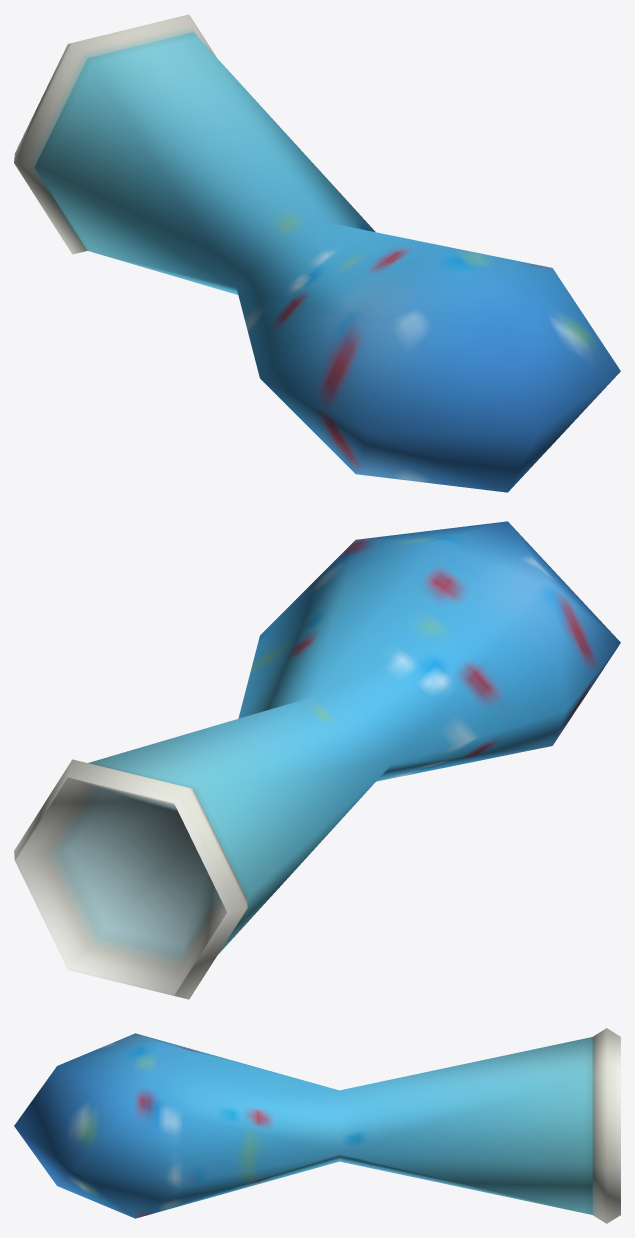
File: jsf_Balloon_12.fbx
The picture shows the model from 3 angles, top to bottom: view 1: azimuth 30°, elevation 25°; view 2: azimuth 150°, elevation 25°; view 3: azimuth 270°, elevation 25°; orthographic projection. The views are drawn at different scales.
Visible parts, largest first — view 1: jsf_Balloon_12; view 2: jsf_Balloon_12; view 3: jsf_Balloon_12.
Part boxes in pixels (left/top/right/bottom): jsf_Balloon_12: left=14, top=14, right=620, bottom=492; jsf_Balloon_12: left=14, top=521, right=620, bottom=999; jsf_Balloon_12: left=14, top=1028, right=620, bottom=1223.
Size of the model in its own units: 1.44 by 1.02 by 3.39.
